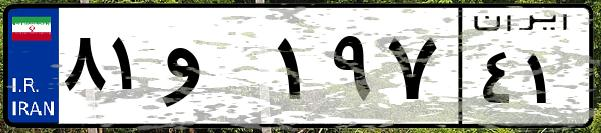1: (270, 28, 330, 110), (525, 38, 570, 115), (110, 28, 158, 98)
4: (475, 38, 525, 113)
7: (385, 28, 445, 110)
8: (57, 26, 110, 100)
9: (330, 28, 385, 110)
و: (158, 20, 270, 120)
